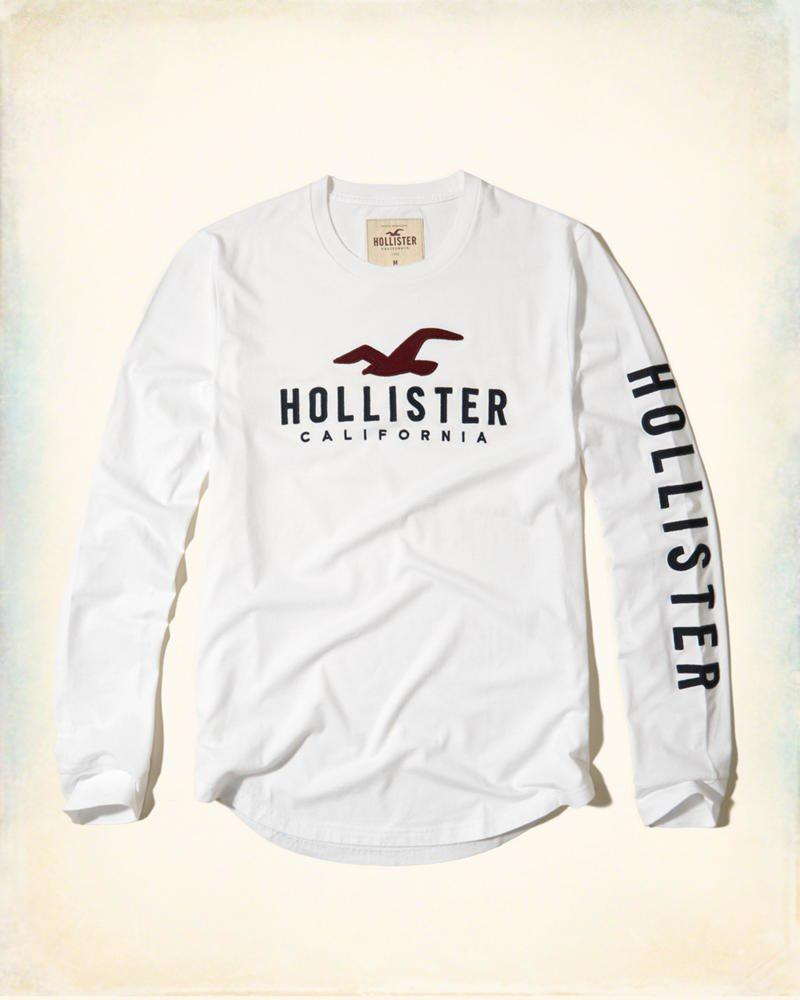teeshirt: (21, 175, 765, 921)
